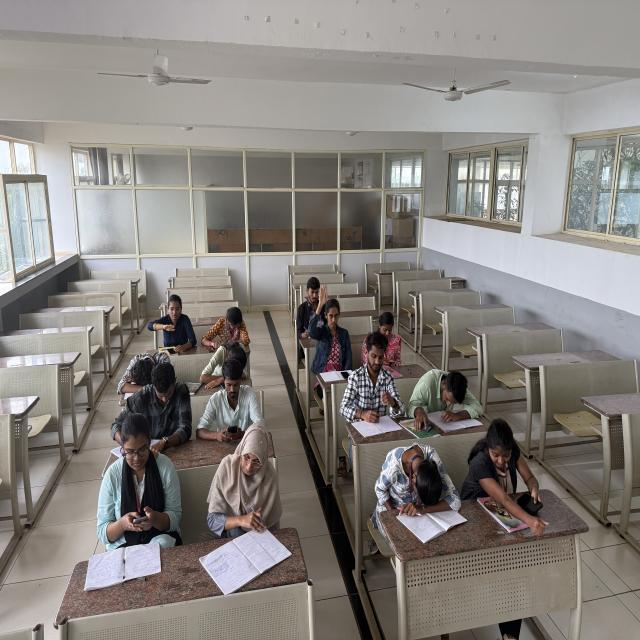Hand Rising: (308, 281, 356, 366)
Reading: (338, 323, 410, 431)
Sleeping: (464, 428, 541, 530), (372, 441, 461, 513), (410, 365, 487, 425), (111, 344, 176, 401), (200, 339, 258, 388)
Using Phone: (91, 412, 184, 546), (190, 358, 264, 441)
Writing: (284, 266, 334, 344)
